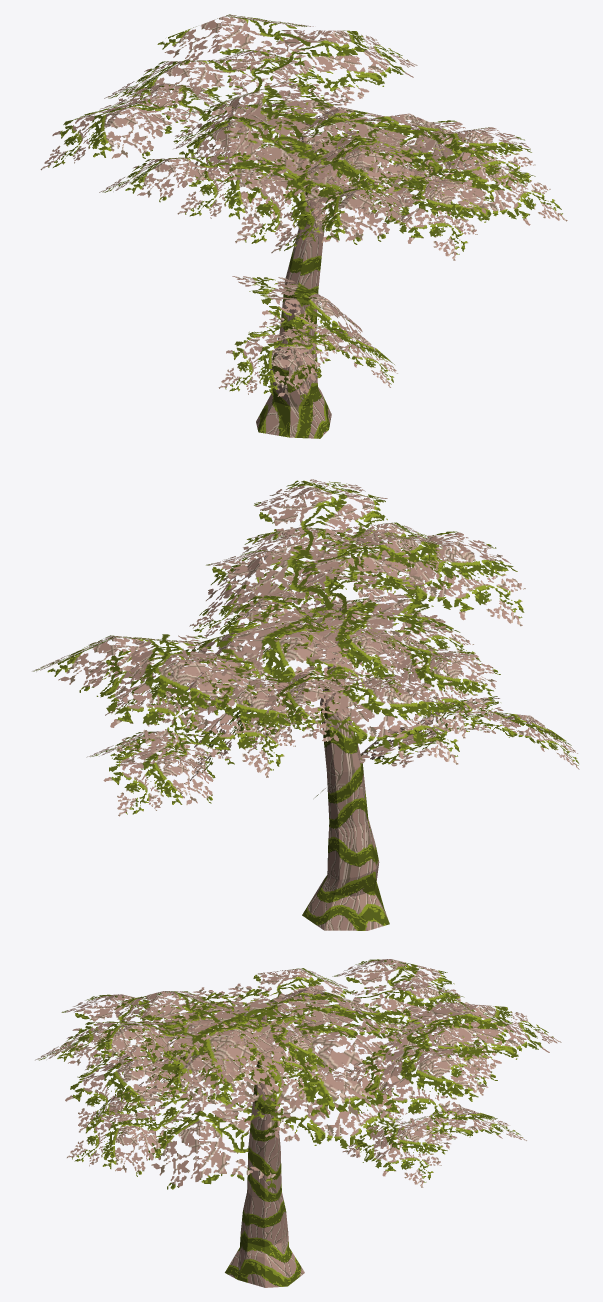
File: TreeLeaf_02.obj
3 views of the same model, one above another, from view 1: azimuth 30°, elevation 25°; view 2: azimuth 150°, elevation 25°; view 3: azimuth 270°, elevation 25° (orthographic). The views are drawn at different scales.
Parts seen in each view (by area): view 1: TreeLeaf_02_Circle.001; view 2: TreeLeaf_02_Circle.001; view 3: TreeLeaf_02_Circle.001.
Boxes of the visible parts, x1=… form: TreeLeaf_02_Circle.001: x1=40, y1=14, x2=567, y2=438; TreeLeaf_02_Circle.001: x1=32, y1=479, x2=579, y2=930; TreeLeaf_02_Circle.001: x1=35, y1=959, x2=561, y2=1287.
Size of the model in its own units: 66.58 by 47.11 by 83.7.
